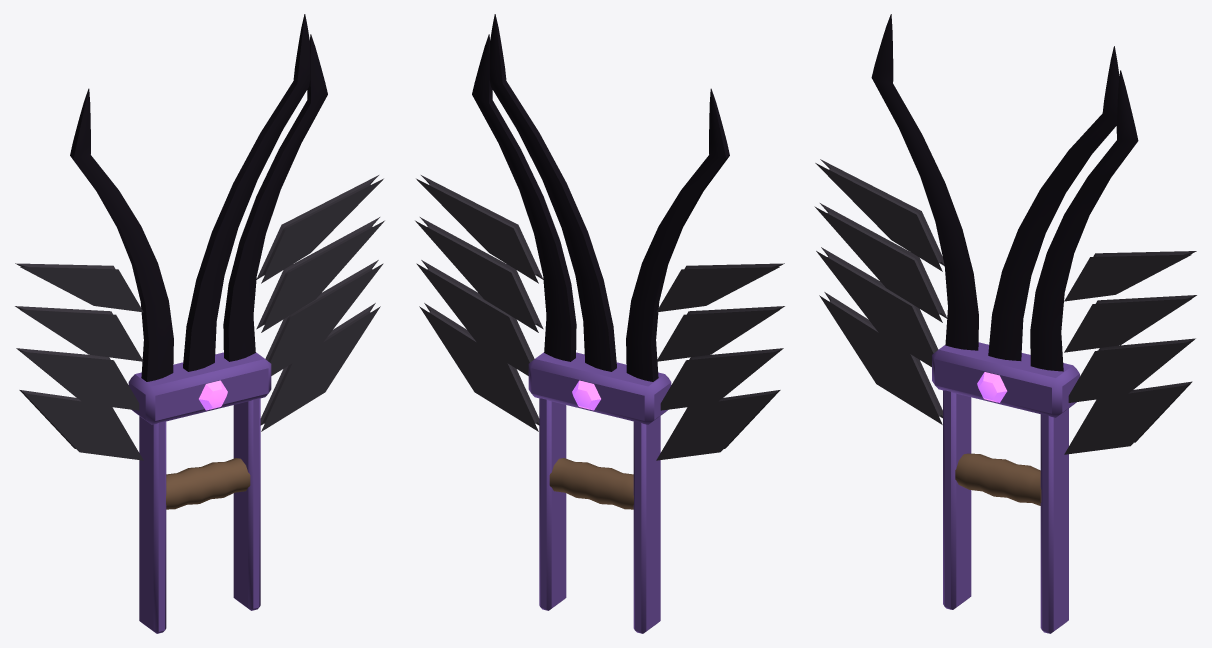
The model's file is fa_nightjar_claws.glb.
The picture shows the model from 3 angles, left to right: view 1: azimuth 30°, elevation 25°; view 2: azimuth 150°, elevation 25°; view 3: azimuth 330°, elevation 25°; orthographic projection. The views are drawn at different scales.
Parts seen in each view (by area): view 1: fa_nightjar_claws; view 2: fa_nightjar_claws; view 3: fa_nightjar_claws.
Part boxes in pixels (bbox=[...]): fa_nightjar_claws: bbox=[15, 14, 384, 633]; fa_nightjar_claws: bbox=[415, 14, 784, 633]; fa_nightjar_claws: bbox=[814, 14, 1196, 633].
Size of the model in its own units: 0.3489 by 0.525 by 0.0616.
